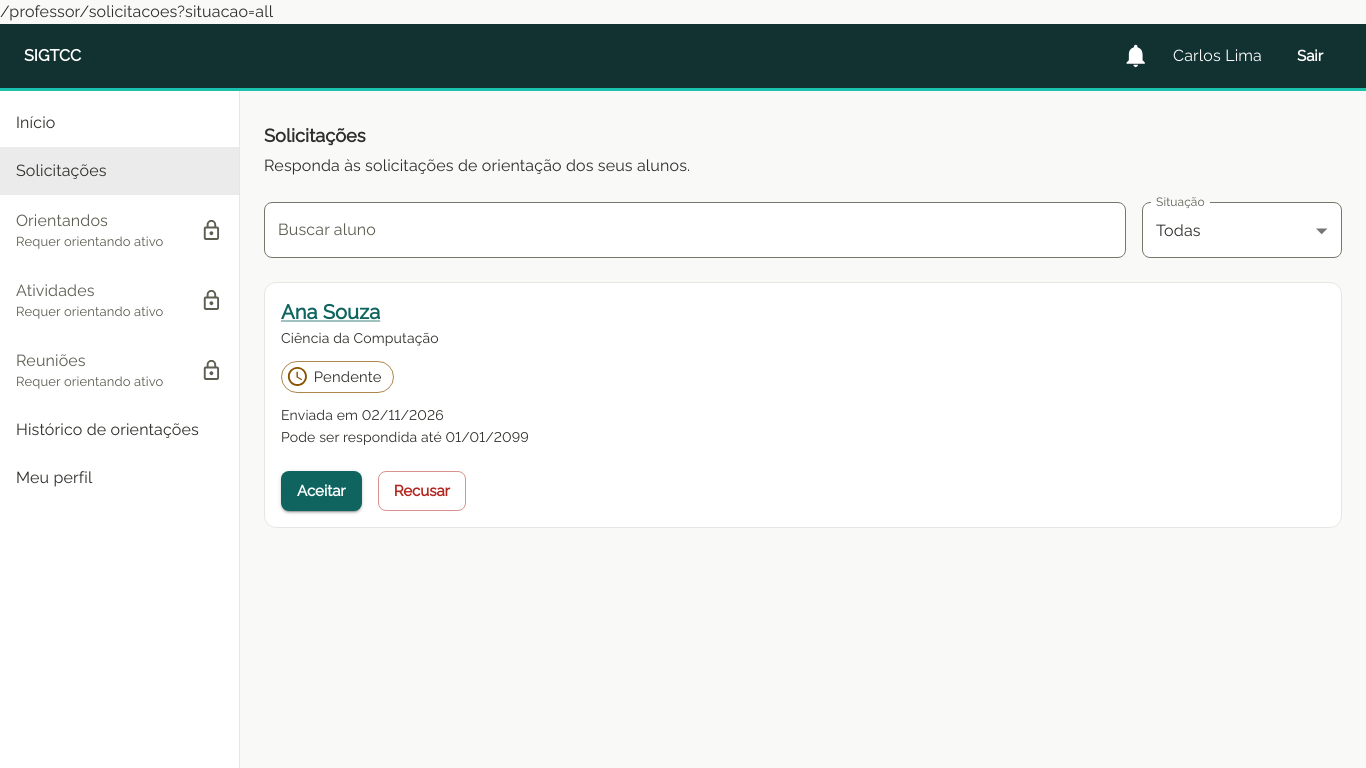
Test: Solicitações do professor: o diálogo aberto quando a solicitação muda › respondida em outra aba (accepted), o diálogo Aceitar avisa e bloqueia
Expected: the element "Ana Souza" is shown, [264,282,1342,528]
Click the button "Aceitar" at (321, 491), box [281,471,362,511]
Wait 30000 ms
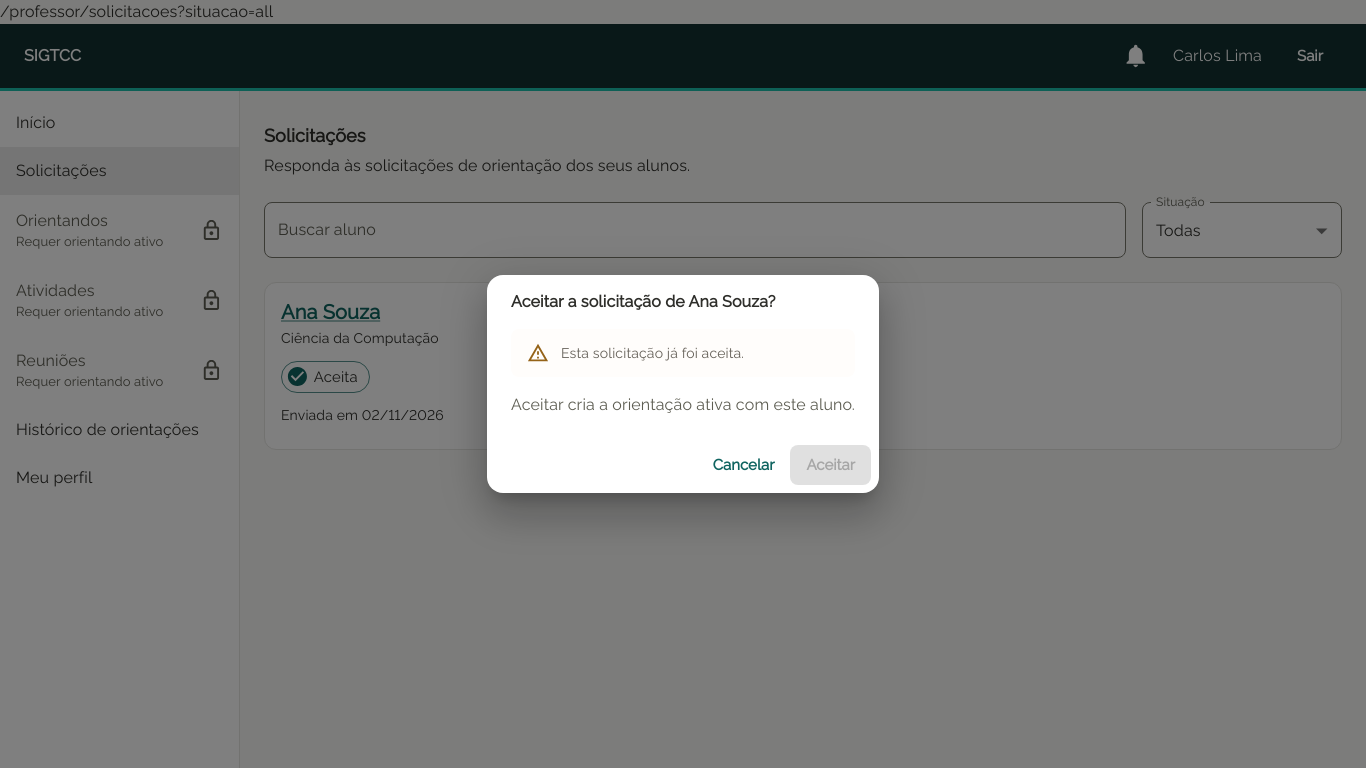
Expected: the text "Esta solicitação já foi aceita." is shown, [561,345,744,361]
Expected: the button "Aceitar" is disabled, [790,445,871,485]
